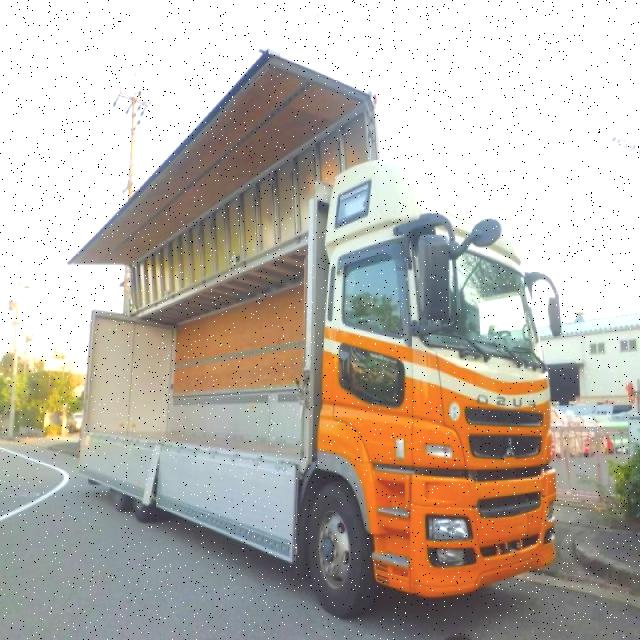truck: (69, 46, 569, 623)
